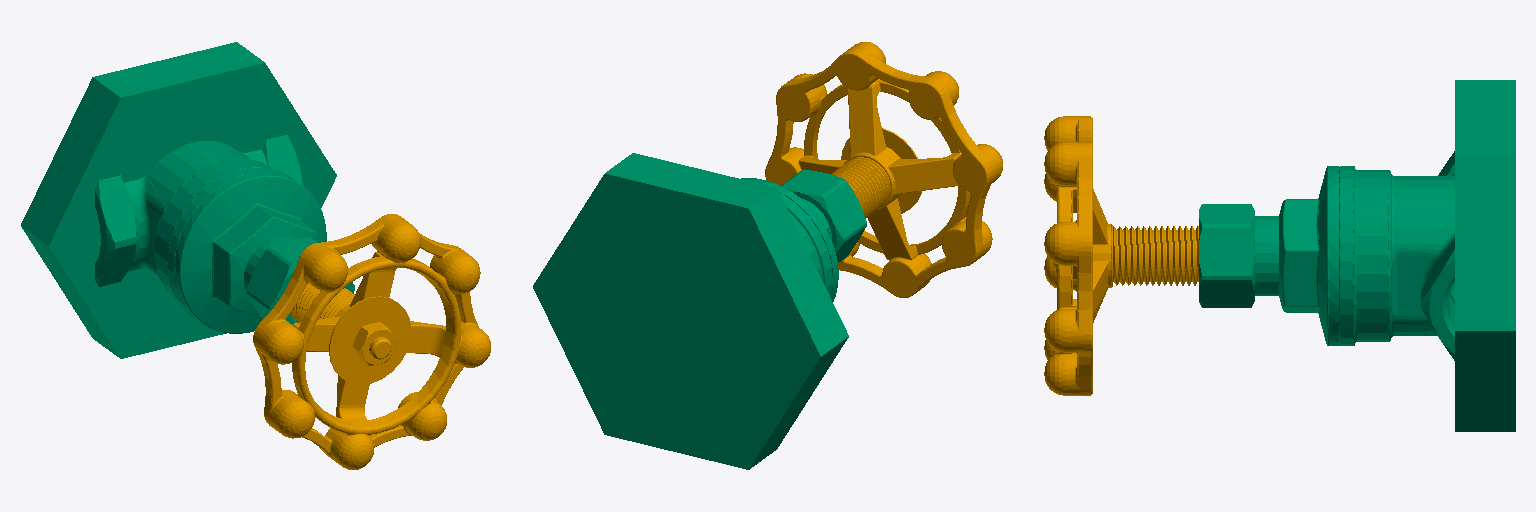
URDF robot description (Small_Valve):
<?xml version="1.0" encoding="UTF-8"?>
<robot name="Small_Valve">
  <joint name="PrismaticJoint" type="prismatic">
    <origin xyz="0. -0. -0." rpy="0.0000002 0. 0. "/>
    <parent link="pivot_registro"/>
    <child link="eixo_trans"/>
    <axis xyz="0. 0. 1."/>
    <limit lower="-0.02" upper="0.015" effort="10000000." velocity="0."/>
  </joint>
  <joint name="RevoluteJoint" type="continuous">
    <origin xyz="0. -0. 0." rpy="1.5707963 0. 0. "/>
    <parent link="valvula_gaveta"/>
    <child link="pivot_registro"/>
    <axis xyz="0. 0. 1."/>
  </joint>
  <link name="eixo_trans">
    <visual>
      <origin xyz="-0. -0. -0.0723285" rpy="-0.0000001 0. 0. "/>
      <geometry>
        <mesh filename="./meshes/Mesh_21.obj" scale="1. 1. 1."/>
      </geometry>
    </visual>
    <visual>
      <origin xyz="-0. -0. -0.0723285" rpy="0.0000003 -0.0000001 -2.6011126"/>
      <geometry>
        <mesh filename="./meshes/Mesh_22.obj" scale="1. 1. 1."/>
      </geometry>
    </visual>
    <collision>
      <origin xyz="-0. -0. -0.0723285" rpy="-0.0000001 0. 0. "/>
      <geometry>
        <mesh filename="./meshes/Mesh_21.obj" scale="1. 1. 1."/>
      </geometry>
    </collision>
    <collision>
      <origin xyz="-0. -0. -0.0723285" rpy="0.0000003 -0.0000001 -2.6011126"/>
      <geometry>
        <mesh filename="./meshes/Mesh_22.obj" scale="1. 1. 1."/>
      </geometry>
    </collision>
  </link>
  <link name="pivot_registro">
    <visual>
      <origin xyz="0. -0. -0." rpy="0. 0. 0."/>
      <geometry>
        <mesh filename="./meshes/Cylinder.obj" scale="1. 1. 1."/>
      </geometry>
    </visual>
    <collision>
      <origin xyz="0. -0. -0." rpy="0. 0. 0."/>
      <geometry>
        <mesh filename="./meshes/Cylinder.obj" scale="1. 1. 1."/>
      </geometry>
    </collision>
  </link>
  <link name="valvula_gaveta">
    <visual>
      <origin xyz="0. 0.0740621 0. " rpy="1.5707964 0. 0. "/>
      <geometry>
        <mesh filename="./meshes/Mesh_1.obj" scale="1. 1. 1."/>
      </geometry>
    </visual>
    <collision>
      <origin xyz="0. 0.0740621 0. " rpy="1.5707964 0. 0. "/>
      <geometry>
        <mesh filename="./meshes/Mesh_1.obj" scale="1. 1. 1."/>
      </geometry>
    </collision>
  </link>
</robot>

--- Facts derived from the render (not from the file) ---
The picture shows the robot from 3 angles, left to right: view 1: azimuth 30°, elevation 25°; view 2: azimuth 150°, elevation 25°; view 3: azimuth 270°, elevation 25°; orthographic projection.
Model Small_Valve with 3 links and 2 joints (1 continuous, 1 prismatic), rooted at valvula_gaveta, posed all joints at 0.
Visible links, largest first — view 1: valvula_gaveta, eixo_trans; view 2: valvula_gaveta, eixo_trans; view 3: valvula_gaveta, eixo_trans.
Link boxes in pixels (x1,y1,x2,y2): valvula_gaveta: (21, 42, 354, 358); eixo_trans: (253, 214, 490, 469); valvula_gaveta: (533, 153, 866, 469); eixo_trans: (765, 42, 1002, 297); valvula_gaveta: (1199, 80, 1515, 431); eixo_trans: (1044, 116, 1198, 395).
Bounding box of the posed robot: 0.0881 × 0.1174 × 0.0763 m (x, y, z).
Meshes: 4 distinct files referenced, 4 mesh visuals loaded (4 OBJ).
